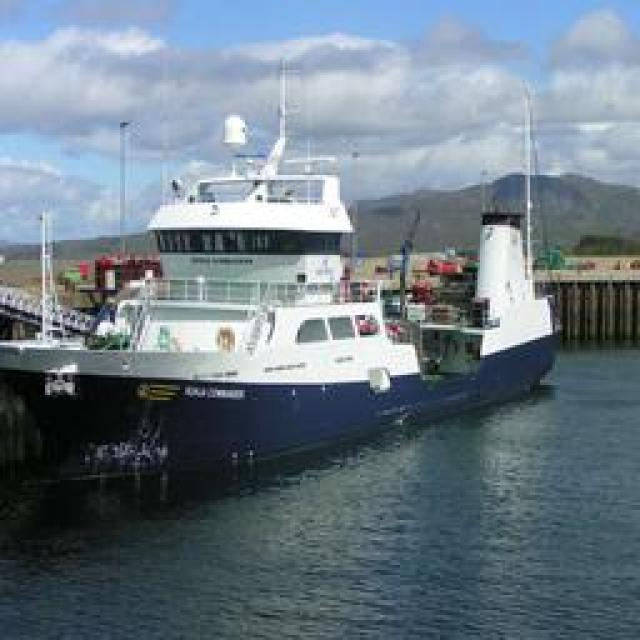ship2: (0, 85, 559, 499)
